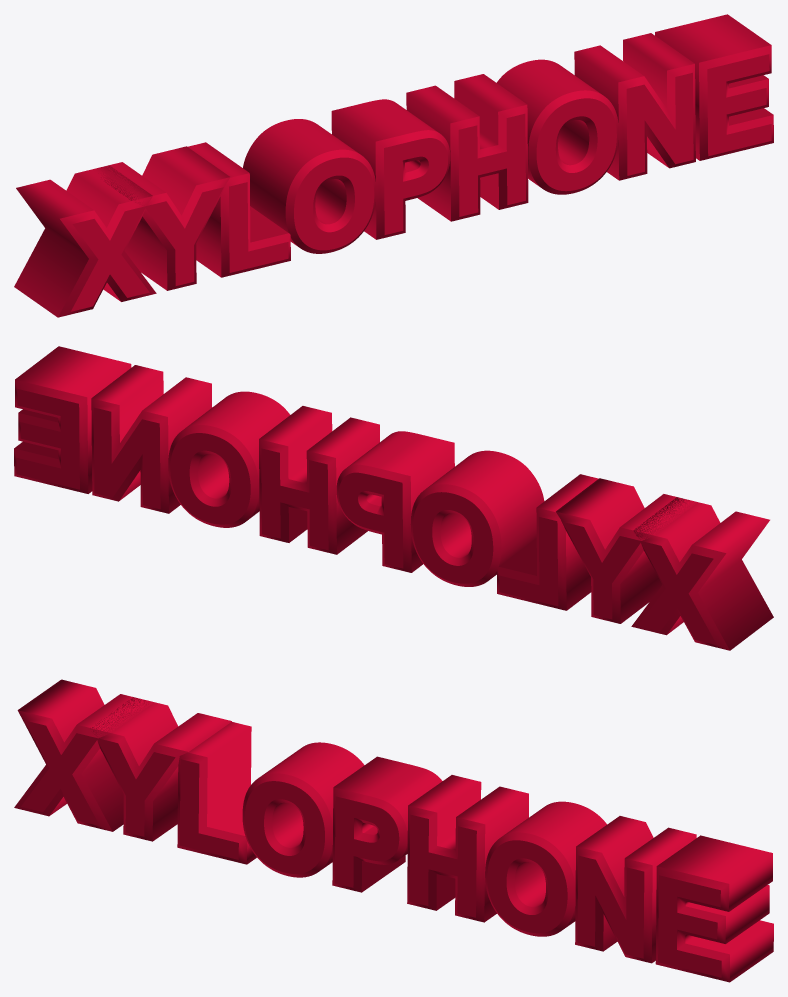
The model's file is xylophone.fbx.
3 renders of one model, top to bottom at view 1: azimuth 30°, elevation 25°; view 2: azimuth 150°, elevation 25°; view 3: azimuth 330°, elevation 25°, orthographic.
Visible parts, largest first — view 1: Text; view 2: Text; view 3: Text.
Part boxes in pixels (x1,y1,x2,y2): Text: [14, 14, 773, 317]; Text: [14, 346, 773, 650]; Text: [14, 679, 773, 982].
Size of the model in its own units: 4.47 by 0.6068 by 0.5489.
